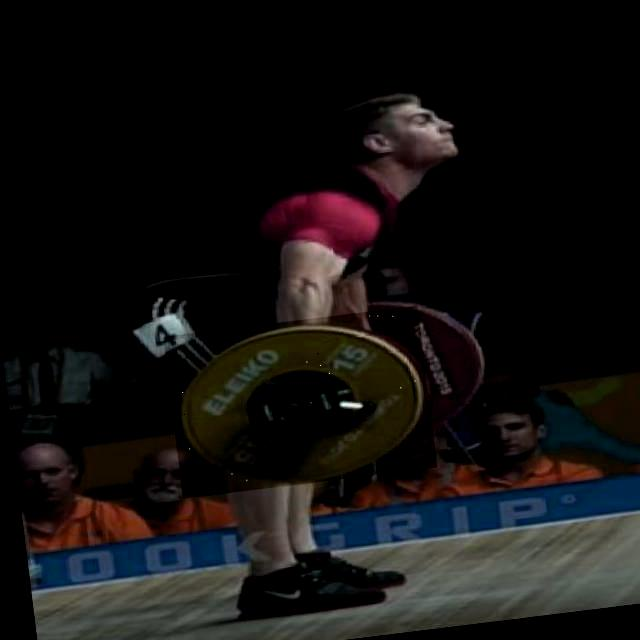barbell: (163, 306, 437, 499)
